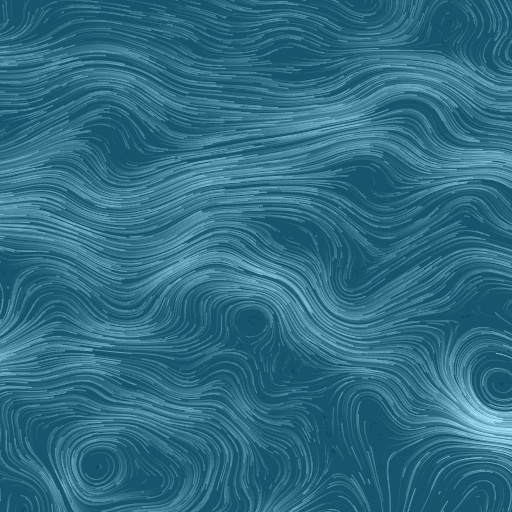eddy: (59, 429, 138, 504), (228, 301, 274, 342), (477, 360, 512, 406)
